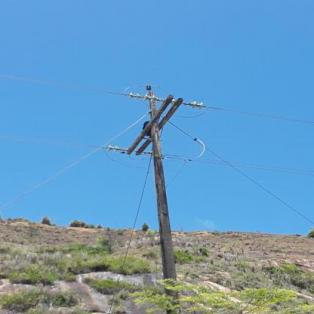Poste: (143, 90, 186, 314)
